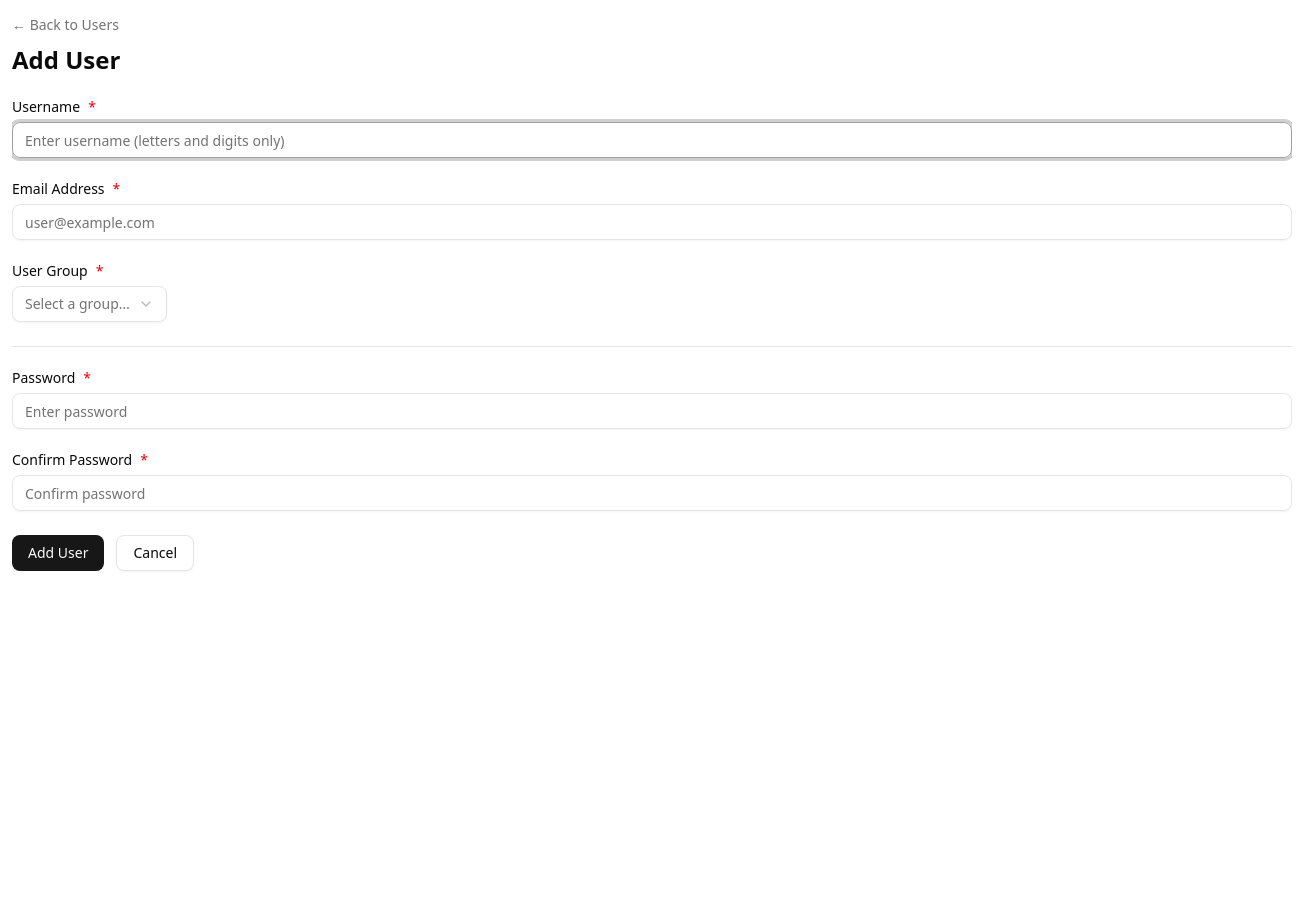
Test: AdminUserFormPage — Add mode › shows validation error for password mismatch
Step 1. Type "validuser" into the field labelled "Username *" → [652, 140], box [12,122,1292,158]
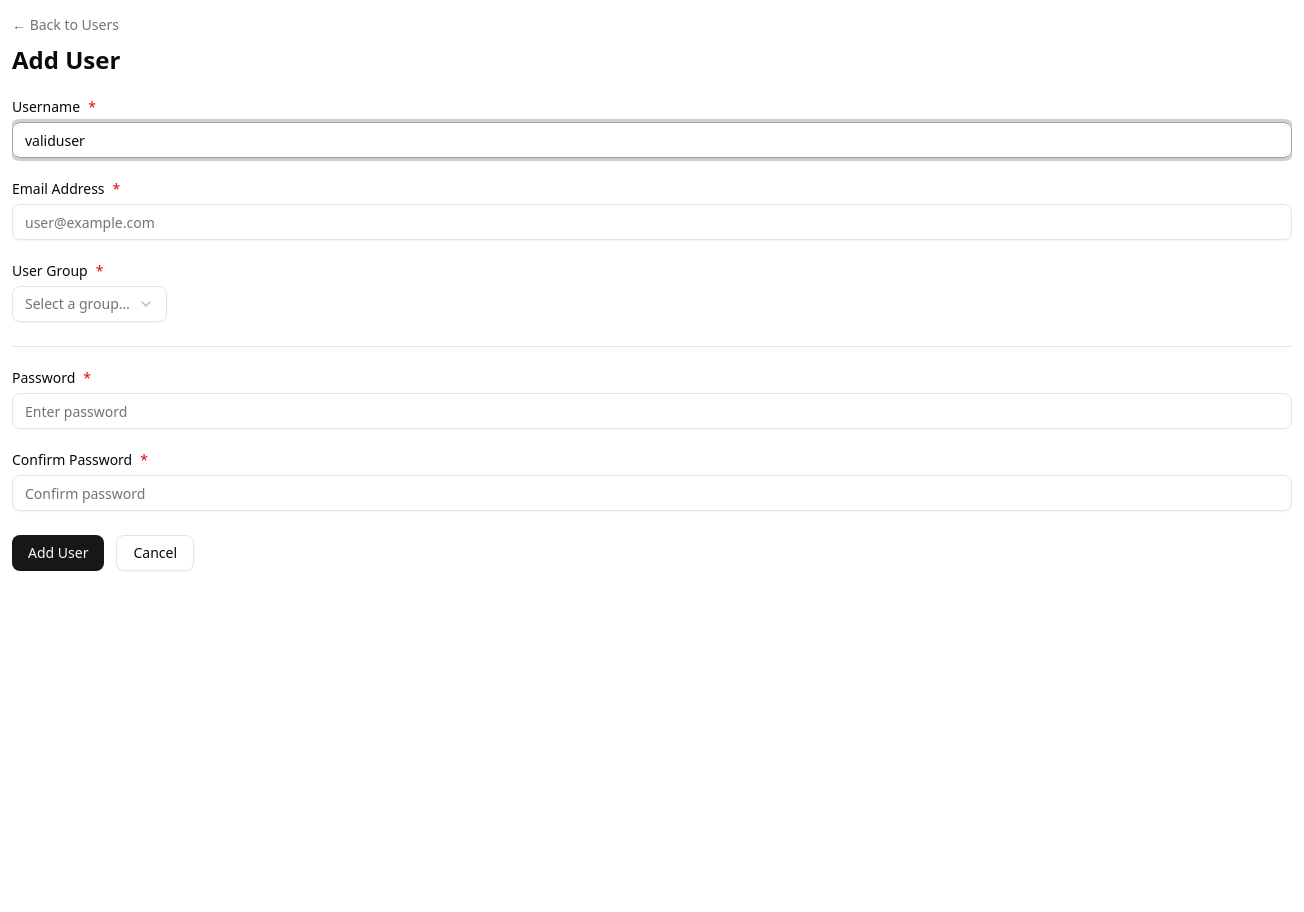
Step 2. Type "password123" into the password field labelled "Password *" → [652, 411], box [12,393,1292,429]
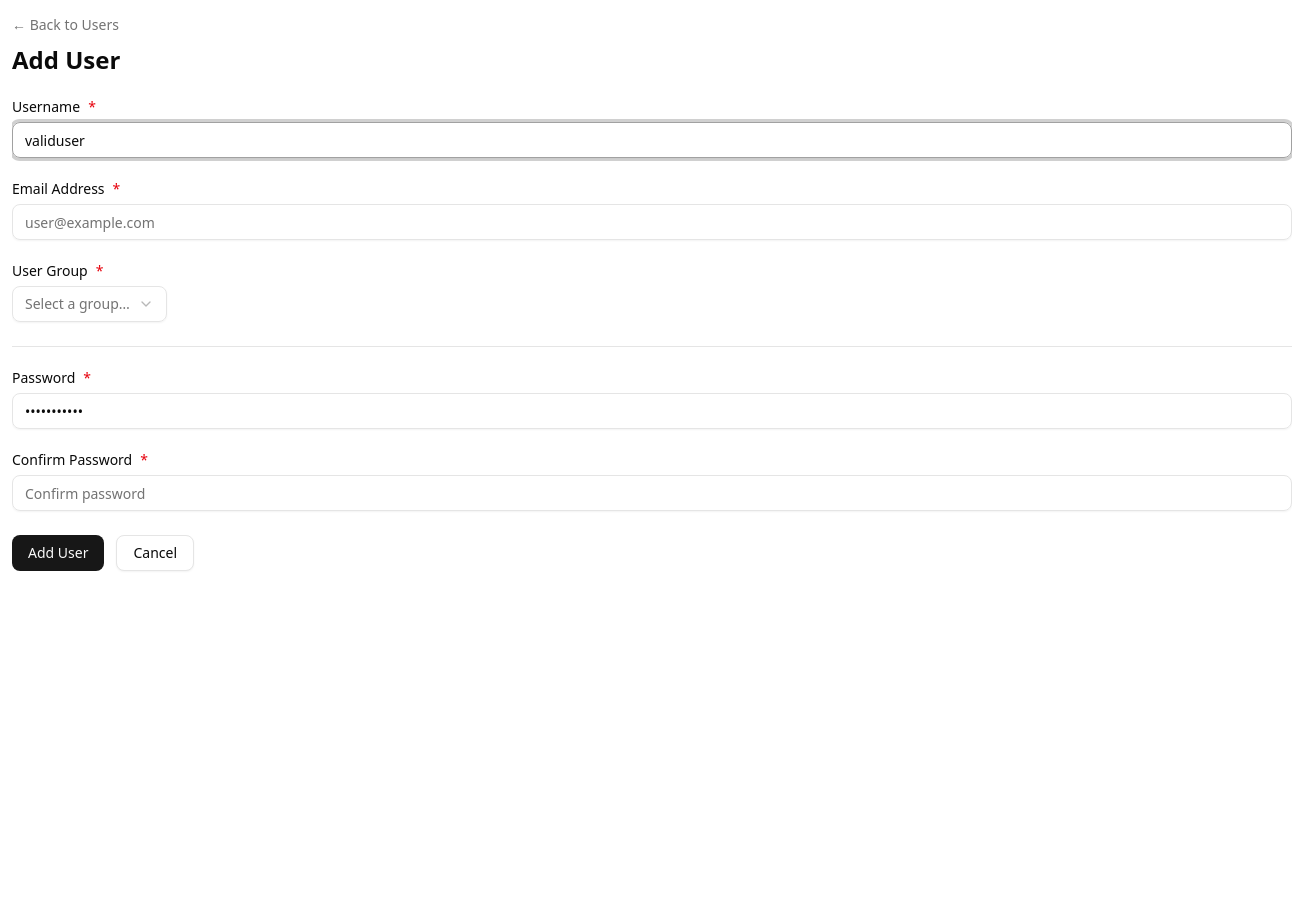
Step 3. Type "different456" into the password field labelled "Confirm Password *" → [652, 493], box [12,475,1292,511]
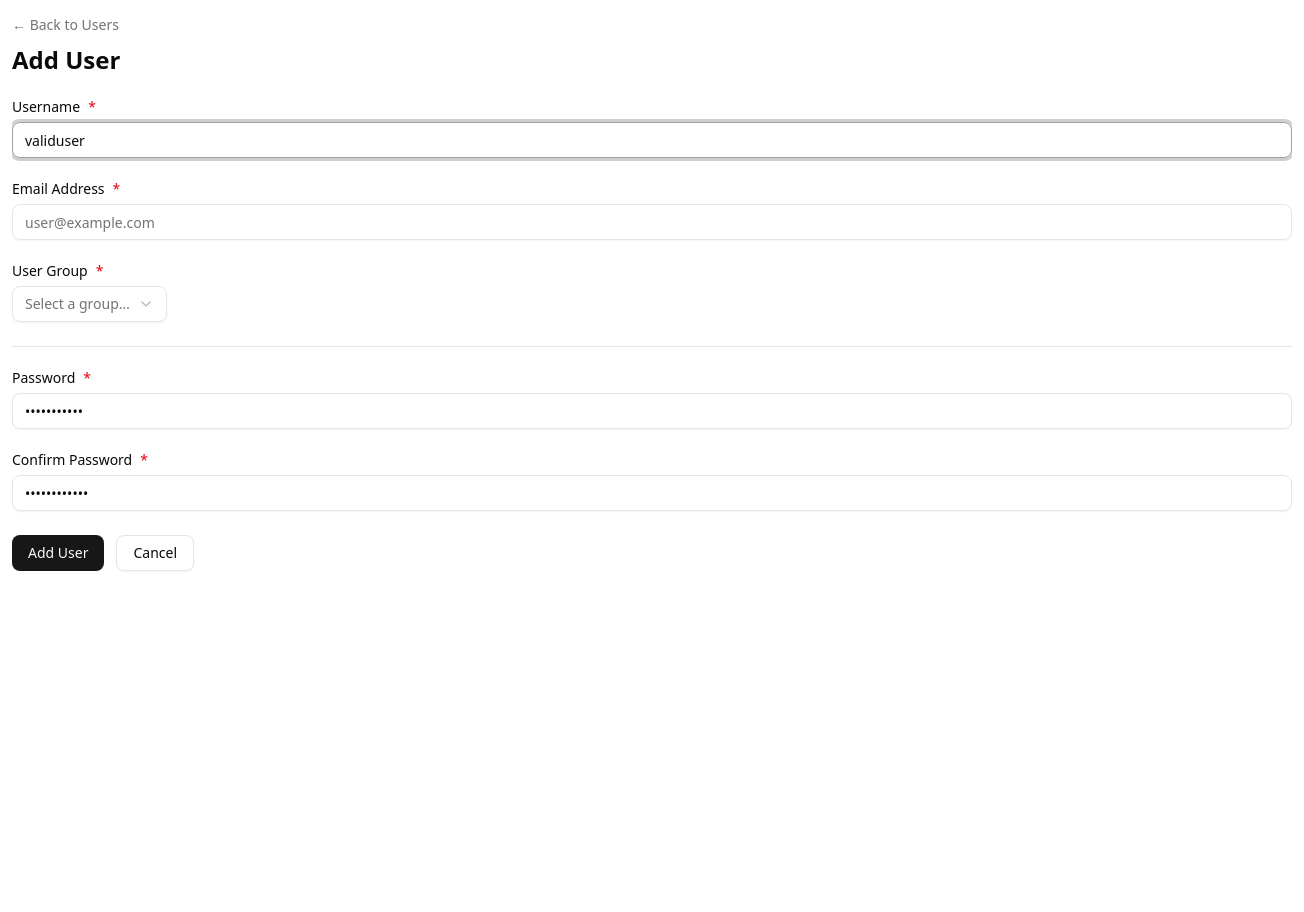
Step 4. Click the button "Add User" → [58, 553], box [12,535,104,571]
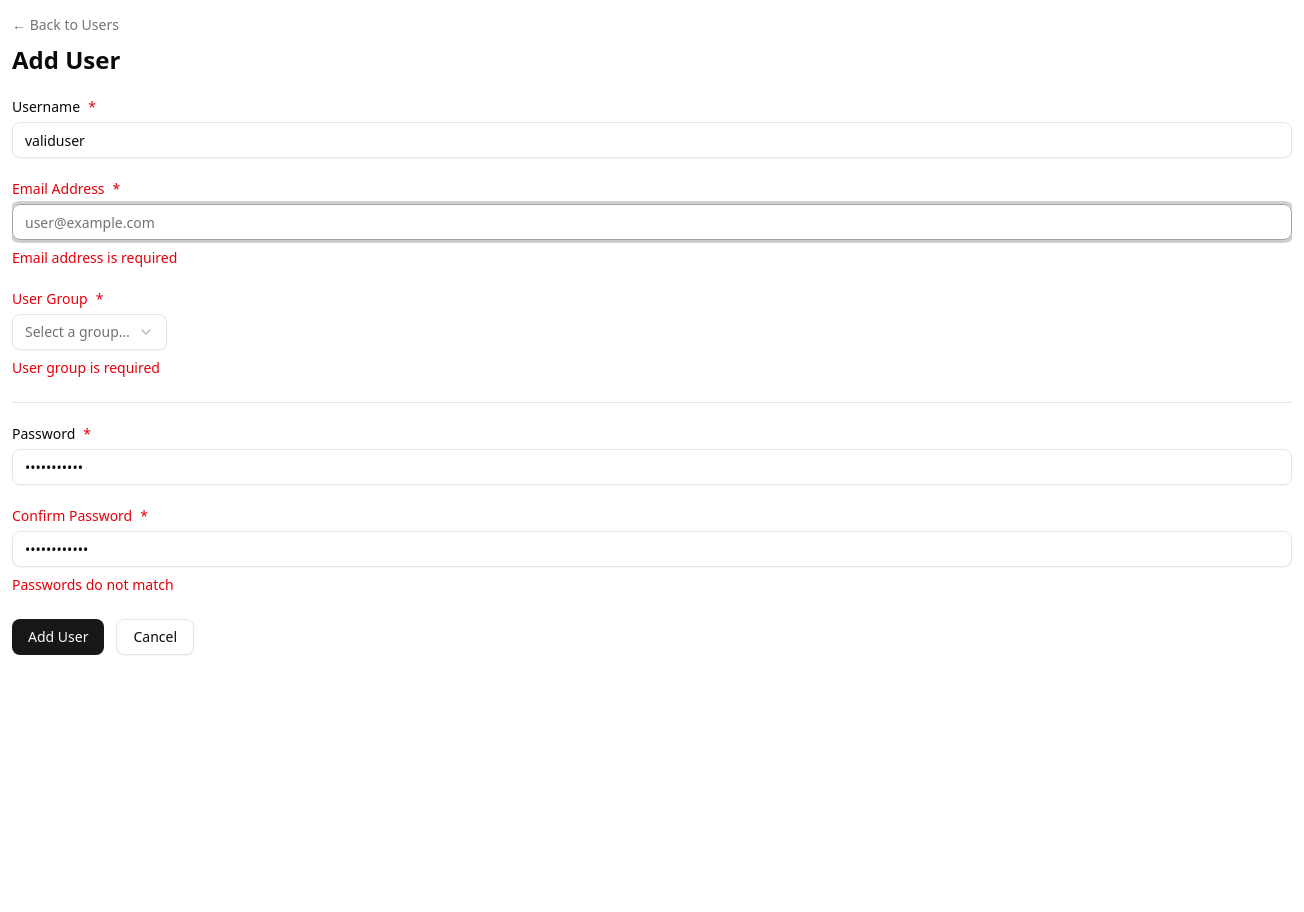
Result: the text "Passwords do not match" is shown at [12,575,174,594]
